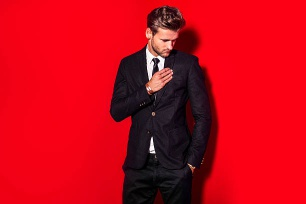male: (145, 6, 179, 60)
